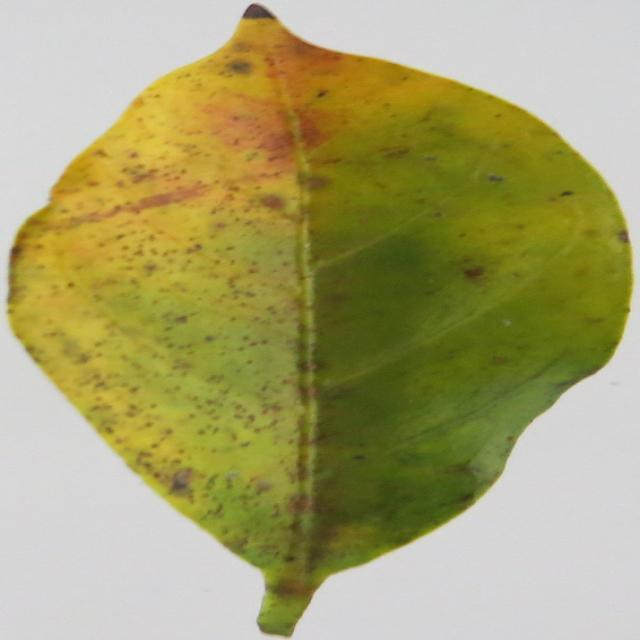DeficienciaNutricional-Fosforo: (11, 5, 631, 634)
